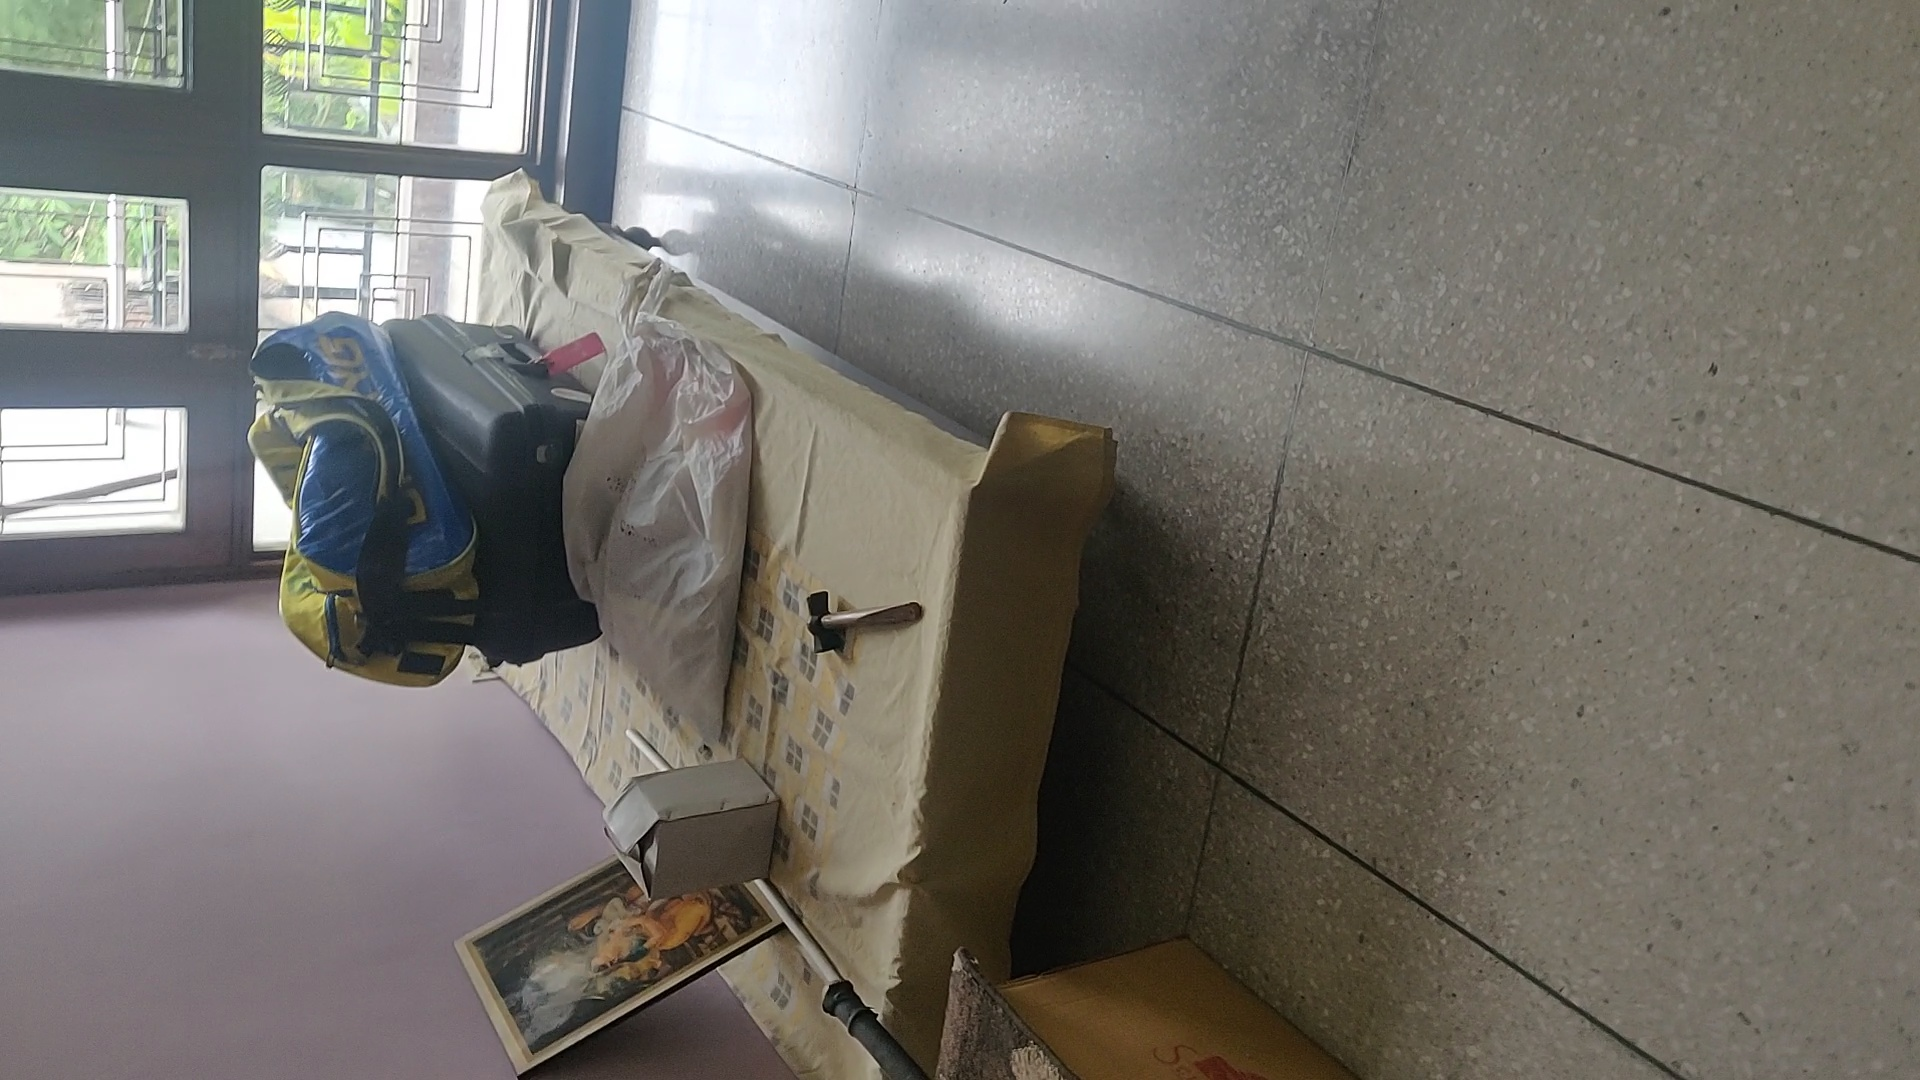hammer: (803, 587, 927, 658)
